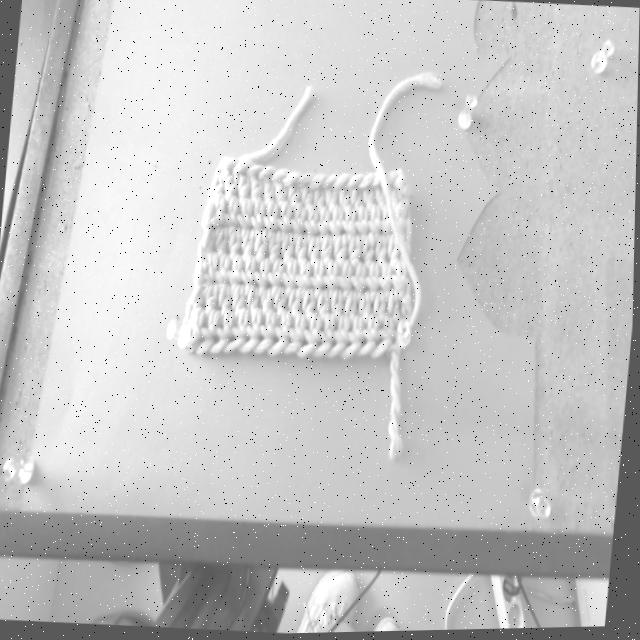ch: (282, 173, 304, 188), (343, 176, 366, 190), (308, 176, 329, 191), (332, 176, 353, 191), (233, 160, 257, 173), (357, 177, 377, 190), (259, 168, 279, 180), (246, 165, 267, 176), (273, 170, 292, 182), (223, 158, 241, 170), (388, 171, 402, 186), (322, 176, 339, 188), (294, 178, 314, 187), (395, 176, 406, 188), (371, 179, 380, 189)
hdc: (223, 308, 251, 354), (209, 310, 235, 355), (356, 311, 380, 359), (339, 316, 365, 360), (298, 314, 323, 359), (239, 308, 264, 353), (269, 311, 293, 357), (197, 311, 222, 355), (324, 316, 350, 358), (371, 315, 395, 359), (253, 310, 278, 352), (313, 314, 336, 358), (284, 313, 307, 354), (187, 309, 207, 352), (290, 202, 308, 246), (375, 263, 394, 304), (223, 196, 241, 238), (350, 263, 367, 305), (278, 199, 294, 243), (267, 261, 286, 298), (227, 255, 244, 296), (215, 252, 232, 292), (329, 206, 345, 248), (264, 201, 280, 242), (334, 235, 349, 278), (238, 200, 253, 241), (241, 256, 256, 296), (323, 263, 339, 300), (357, 206, 371, 248), (367, 262, 381, 304), (205, 284, 220, 323), (296, 262, 312, 298), (191, 287, 207, 323), (343, 205, 357, 246), (305, 205, 319, 246), (252, 197, 265, 241), (221, 169, 238, 202), (337, 262, 352, 299), (254, 230, 269, 266), (255, 260, 270, 296), (393, 263, 408, 299), (311, 261, 325, 299), (203, 252, 218, 287), (232, 286, 247, 321), (203, 230, 216, 270), (389, 237, 402, 277), (284, 261, 298, 298), (219, 284, 233, 321), (294, 234, 308, 270), (210, 194, 225, 227), (349, 235, 362, 273), (317, 291, 331, 325), (371, 205, 383, 244), (318, 205, 330, 244), (242, 229, 255, 265), (303, 290, 316, 326), (238, 173, 252, 206), (289, 289, 303, 322), (325, 187, 342, 214), (230, 227, 243, 262), (274, 288, 287, 323), (332, 290, 345, 325), (374, 291, 387, 326), (345, 291, 358, 325), (382, 206, 393, 246), (216, 229, 230, 259), (376, 235, 388, 270), (360, 291, 372, 326), (388, 290, 400, 325), (364, 234, 375, 272), (247, 286, 260, 318), (251, 177, 264, 208), (275, 182, 291, 207), (283, 233, 295, 266), (309, 236, 321, 268), (213, 169, 224, 202), (270, 232, 281, 265), (262, 287, 272, 323), (339, 189, 353, 214), (321, 237, 333, 266), (392, 187, 403, 216), (289, 188, 303, 210), (302, 188, 314, 212), (264, 181, 274, 208), (364, 190, 375, 214), (375, 189, 387, 211), (314, 190, 324, 214), (352, 189, 362, 213)
